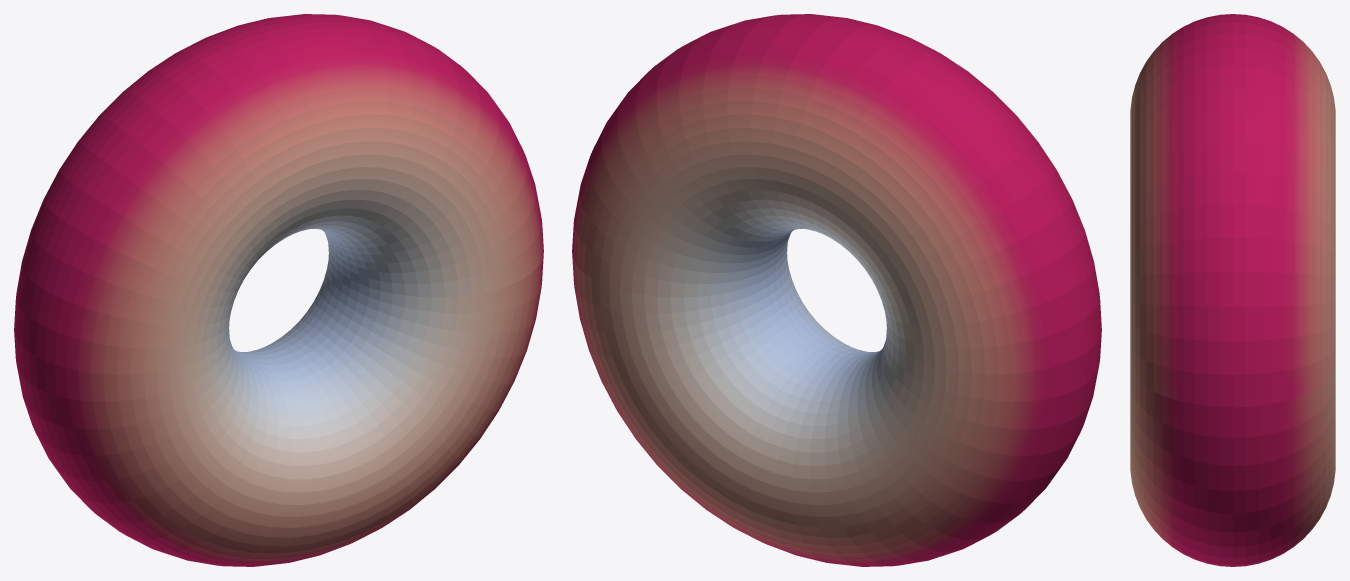
3 renders of one model, left to right at view 1: azimuth 30°, elevation 25°; view 2: azimuth 150°, elevation 25°; view 3: azimuth 270°, elevation 25°, orthographic. The views are drawn at different scales.
Visible parts, largest first — view 1: world; view 2: world; view 3: world.
Part boxes in pixels (<box>): world: <box>14,14,543,566</box>; world: <box>572,14,1101,566</box>; world: <box>1130,14,1335,566</box>.
Bounding box in the file's own units: 25.47 × 25.42 × 9.45.
